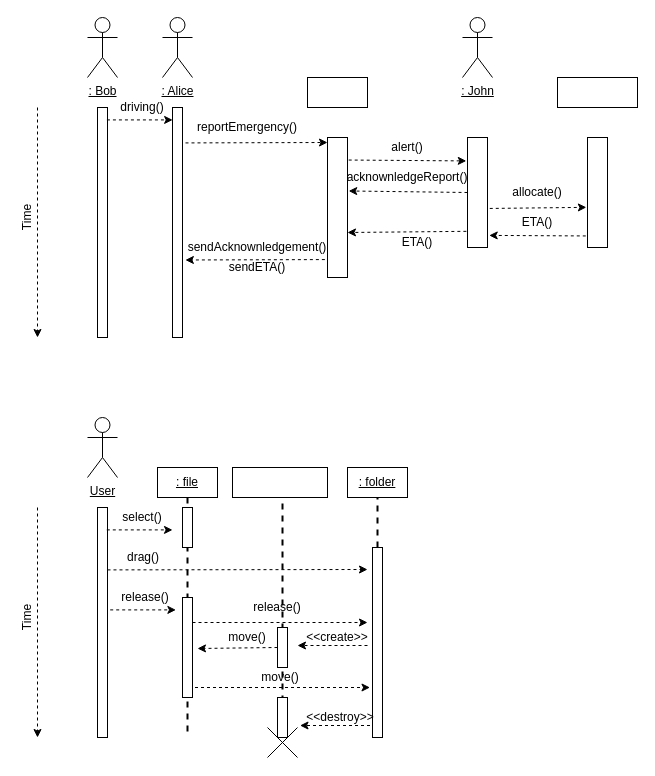
Image size: 655x776. Some labels were removed from this diagram. Each missing label, with the centre of its shape:
": FRIEND" belongs at point (337, 92).
": INCIDENT" belongs at point (597, 92).
": MoveHandler" belongs at point (280, 482).
